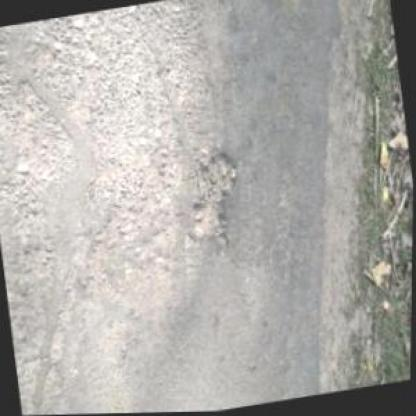pothole: (180, 148, 250, 251)
